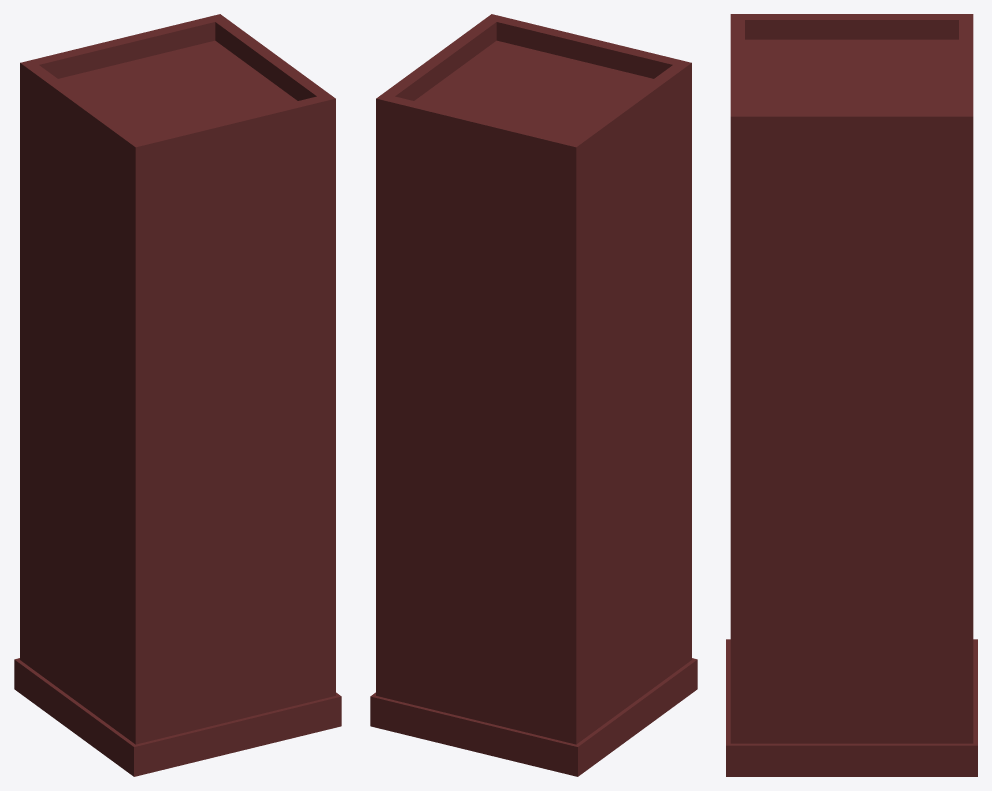
The model's file is Building1_new.fbx.
3 renders of one model, left to right at view 1: azimuth 30°, elevation 25°; view 2: azimuth 150°, elevation 25°; view 3: azimuth 270°, elevation 25°, orthographic. The views are drawn at different scales.
Parts seen in each view (by area): view 1: building3; view 2: building3; view 3: building3.
Boxes of the visible parts, box(x1,y1,x2,y2) form: building3: box(14, 14, 341, 776); building3: box(370, 14, 697, 776); building3: box(726, 14, 977, 776).
Size of the model in its own units: 8.19 by 23.63 by 8.19.
